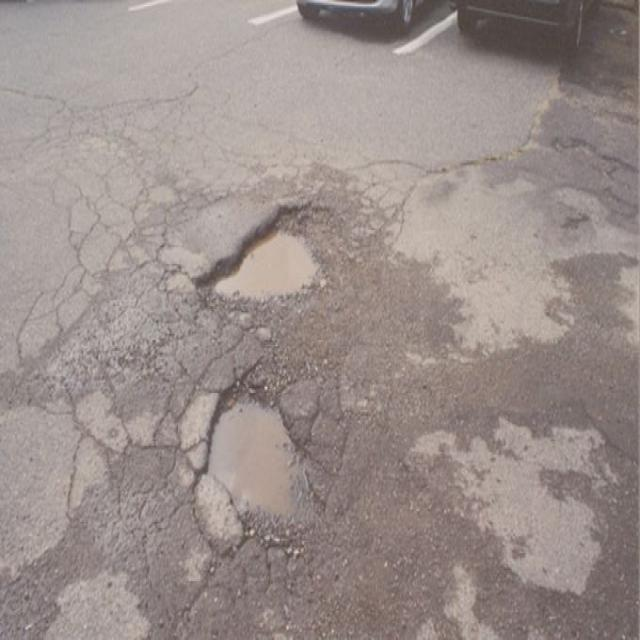pothole: (194, 376, 322, 546), (193, 196, 335, 303)
